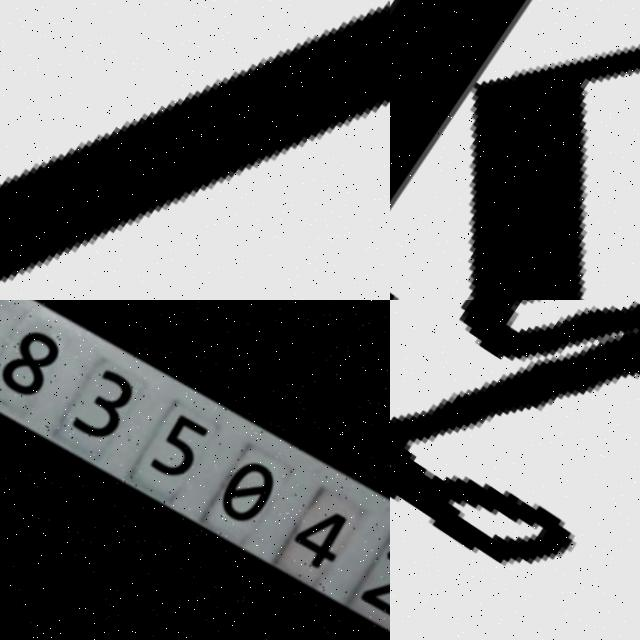0: (188, 430, 301, 551)
2: (334, 522, 390, 638)
3: (43, 339, 159, 465)
4: (265, 481, 372, 596)
5: (123, 388, 228, 501)
8: (0, 300, 83, 420)
K: (390, 0, 640, 300)
Y: (390, 300, 640, 640)
Z: (0, 0, 390, 300)
